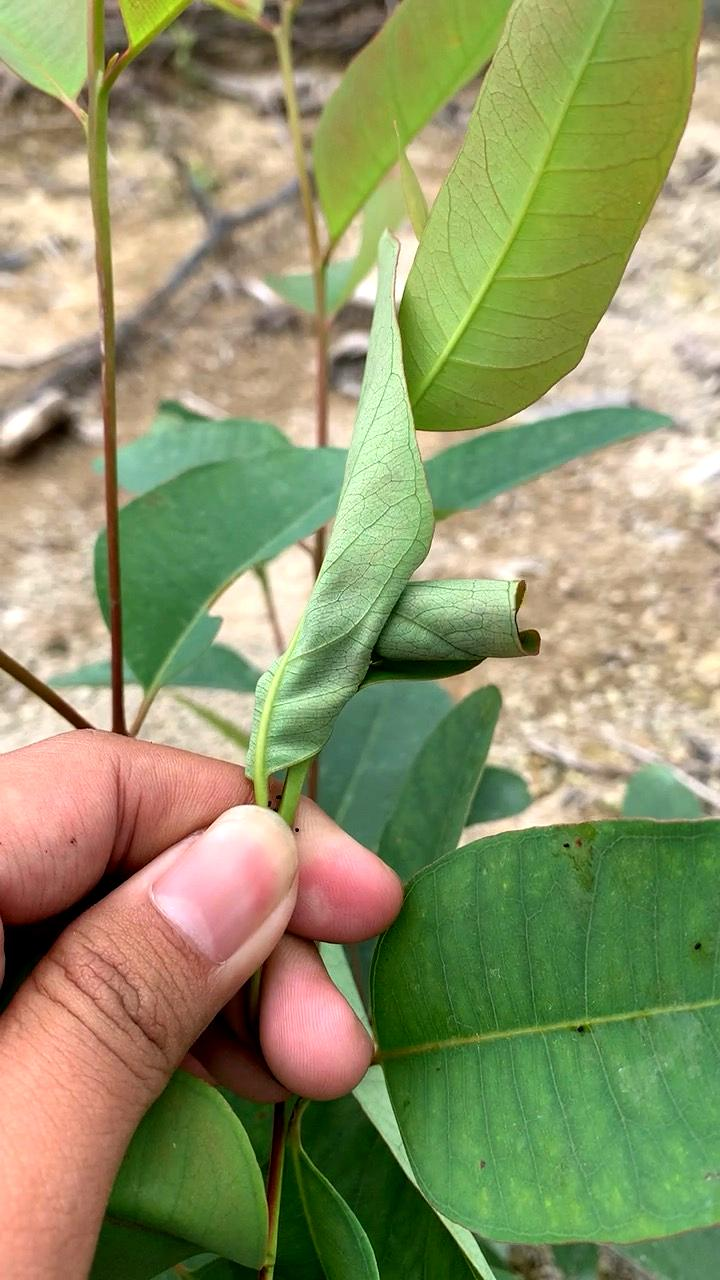Leaf Roller - Leaf: (205, 488, 576, 736)
